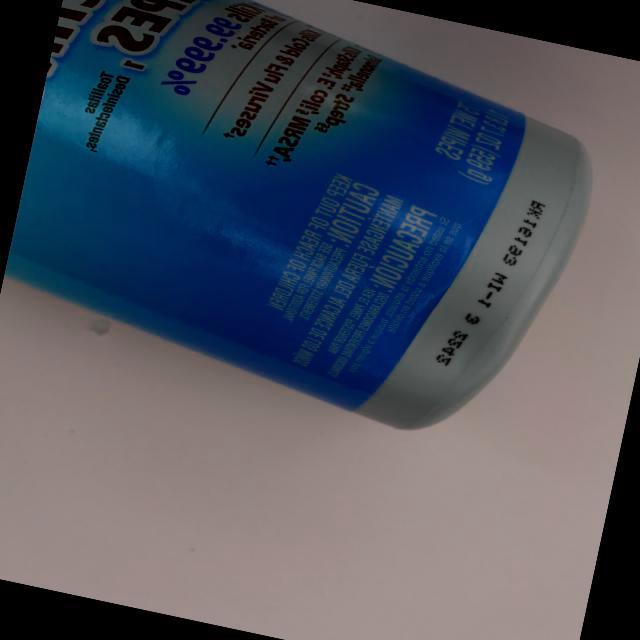plastic: (0, 0, 640, 482)
